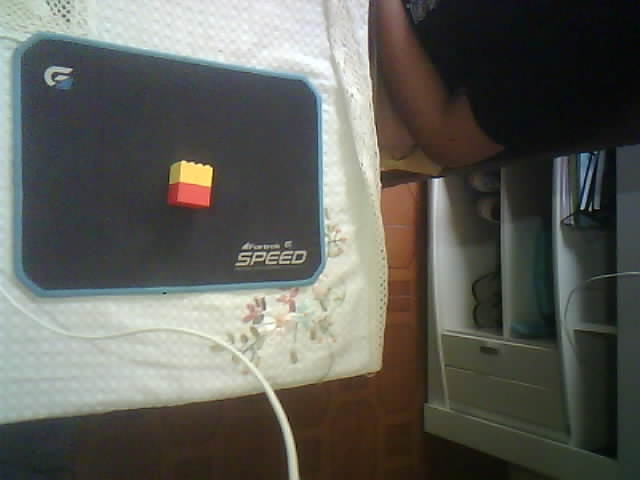lego: (164, 159, 213, 210)
